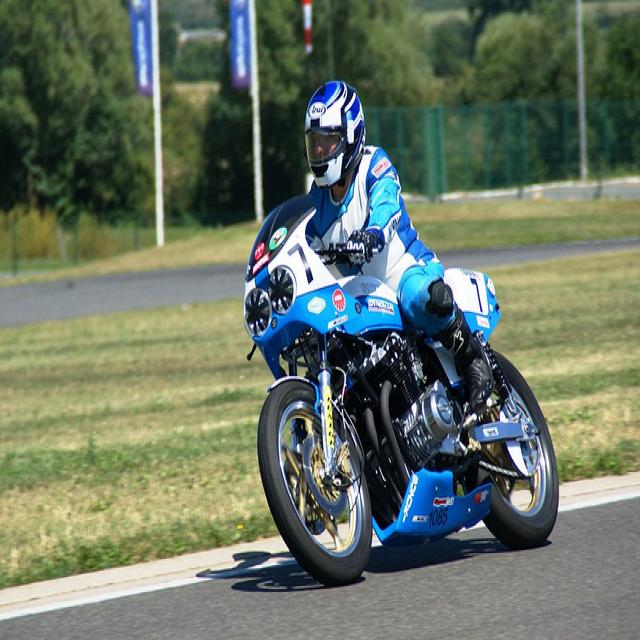motor: (242, 188, 561, 581)
